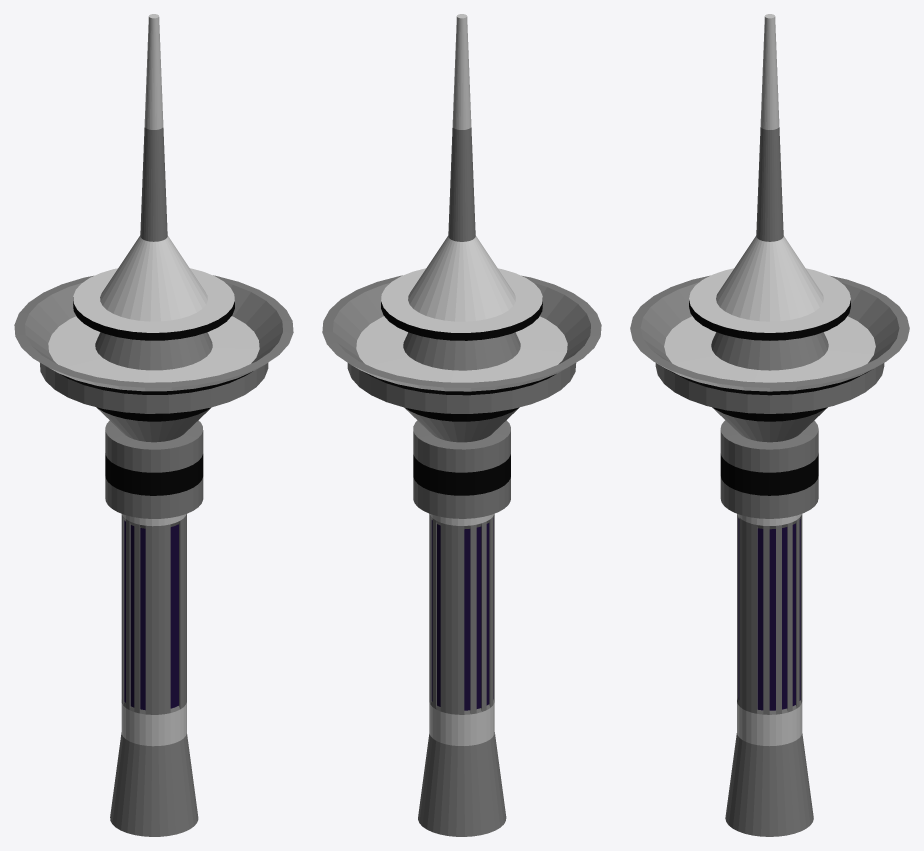
Rendered from Sky tower.glb.
3 views of the same model, side by side, from view 1: azimuth 30°, elevation 25°; view 2: azimuth 150°, elevation 25°; view 3: azimuth 270°, elevation 25° (orthographic).
Visible parts, largest first — view 1: Cylinder; view 2: Cylinder; view 3: Cylinder.
Part boxes in pixels (x1,y1,x2,y2): Cylinder: (14,14,293,836); Cylinder: (322,14,601,836); Cylinder: (630,14,909,836).
Bounding box in the file's own units: 12.83 × 40.6 × 12.83.
